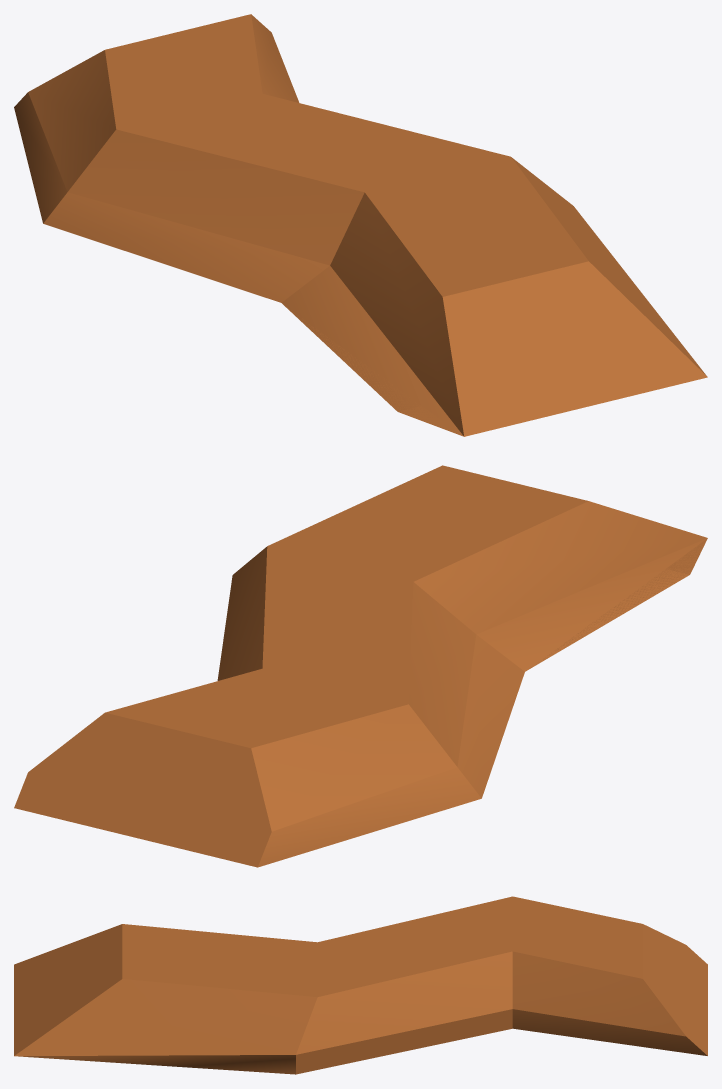
The model's file is DirtB.obj.
3 renders of one model, top to bottom at view 1: azimuth 30°, elevation 25°; view 2: azimuth 150°, elevation 25°; view 3: azimuth 270°, elevation 25°, orthographic. The views are drawn at different scales.
Parts seen in each view (by area): view 1: DirtB; view 2: DirtB; view 3: DirtB.
Part boxes in pixels (bbox=[...]): DirtB: bbox=[14, 14, 707, 436]; DirtB: bbox=[14, 465, 707, 867]; DirtB: bbox=[14, 896, 707, 1074].
Bounding box in the file's own units: 1.6 × 0.3 × 3.2.
